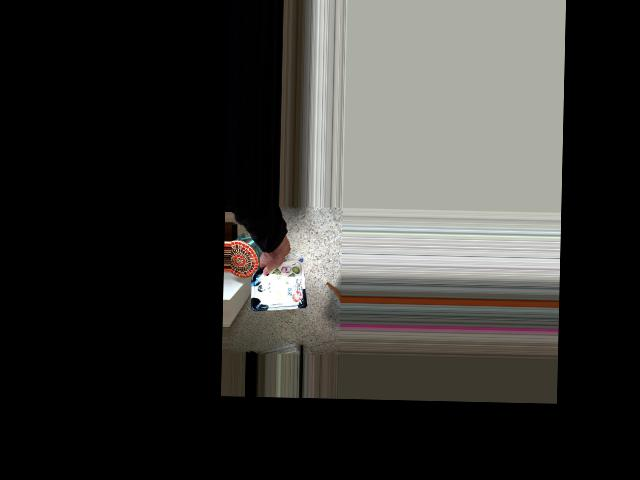cheese: (249, 238, 306, 301)
